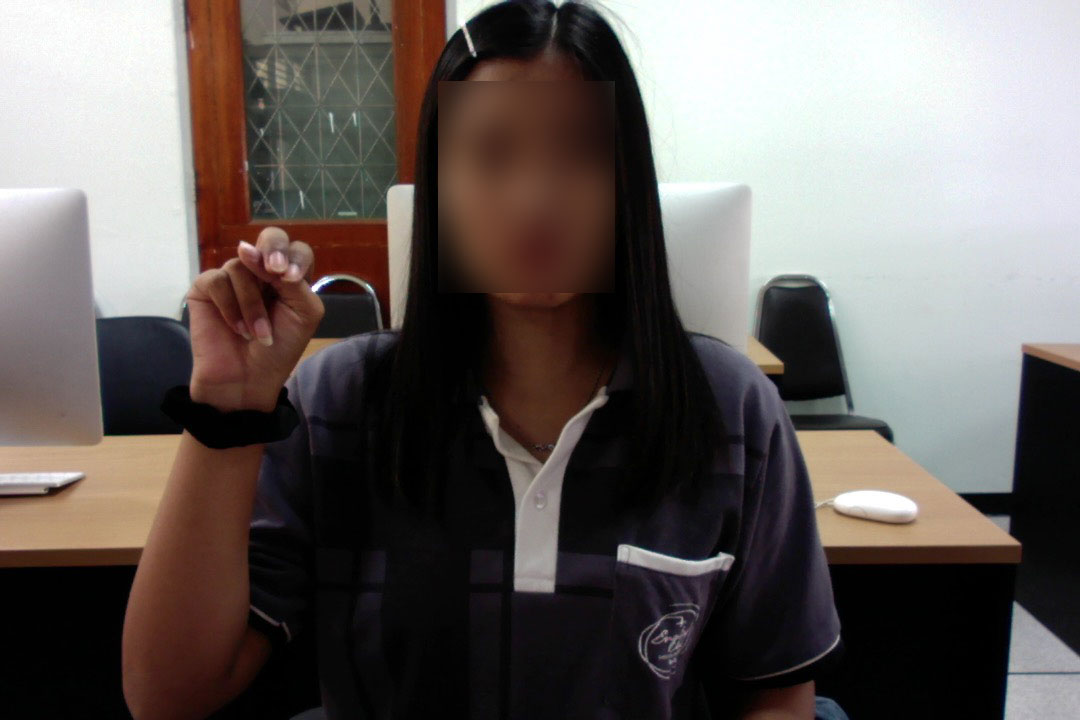nor: (176, 220, 331, 396)
